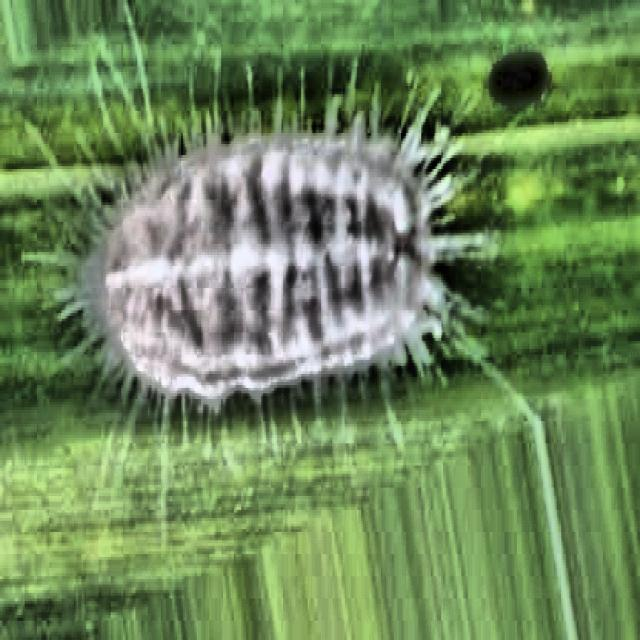Mealy-bug: (43, 66, 494, 452)
